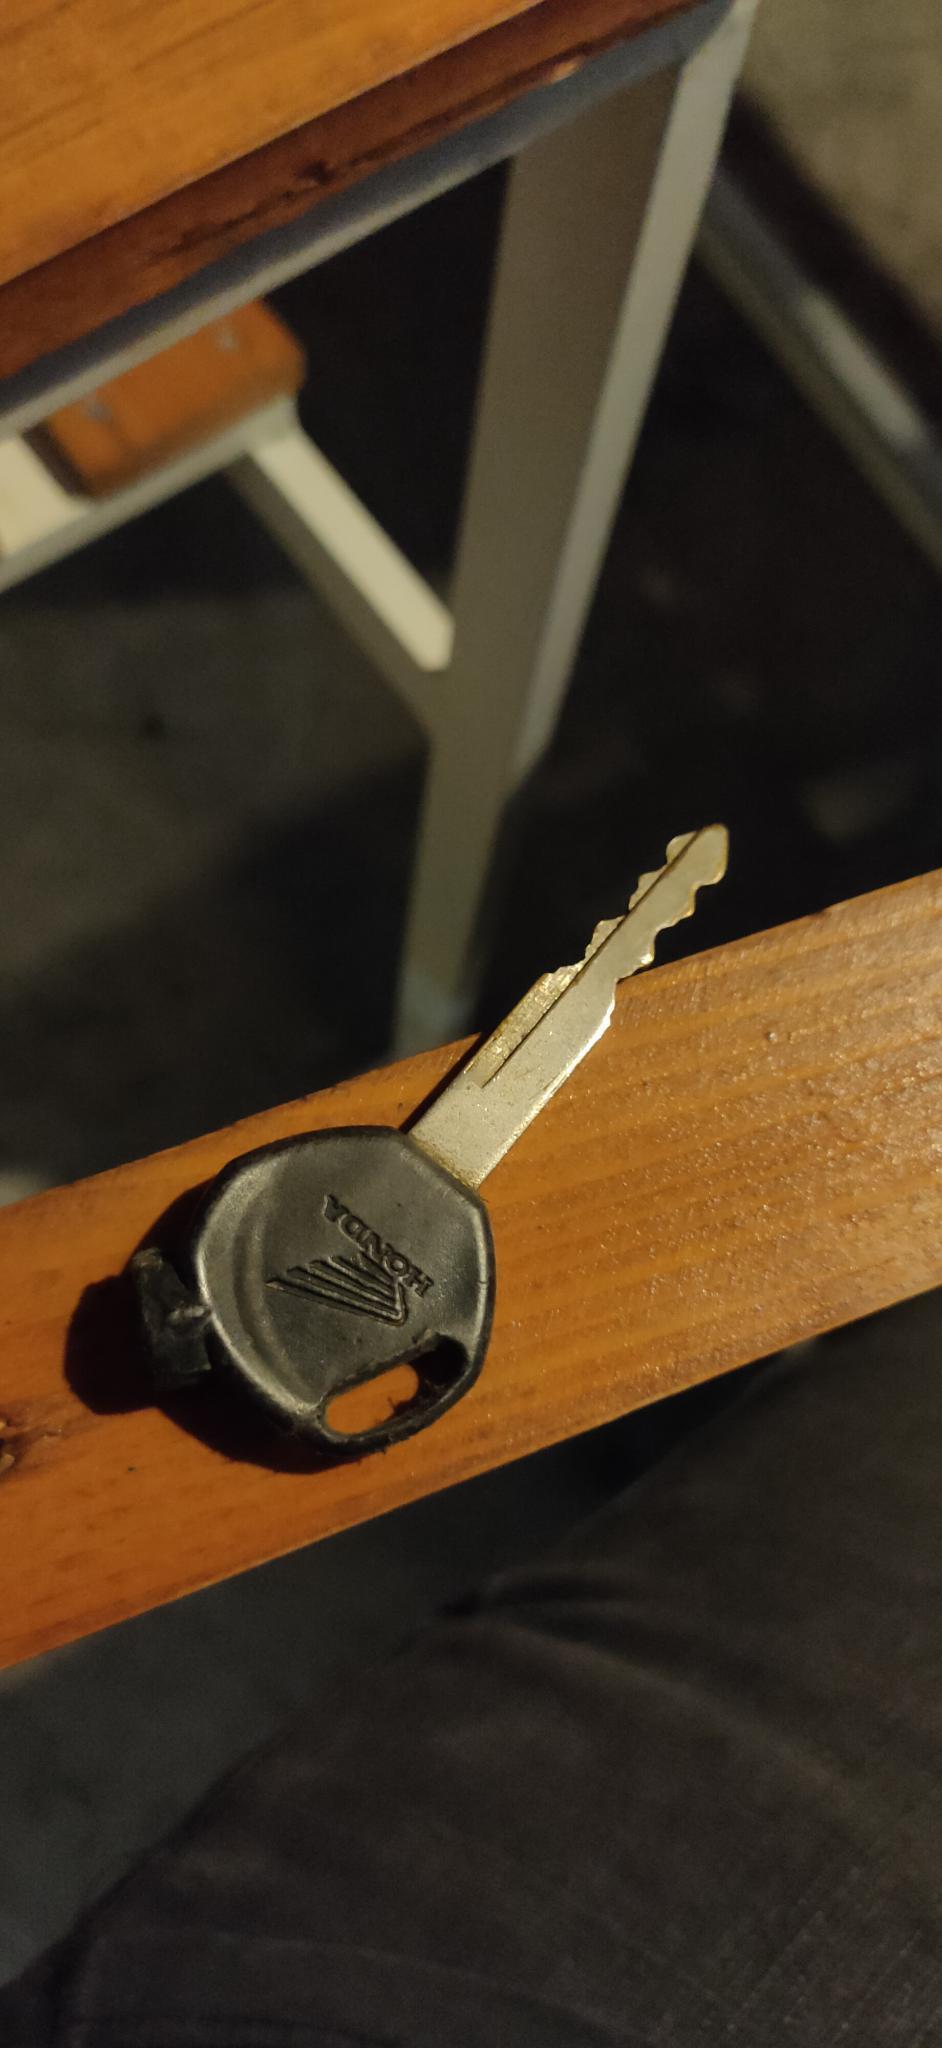keys: (63, 795, 749, 1490)
